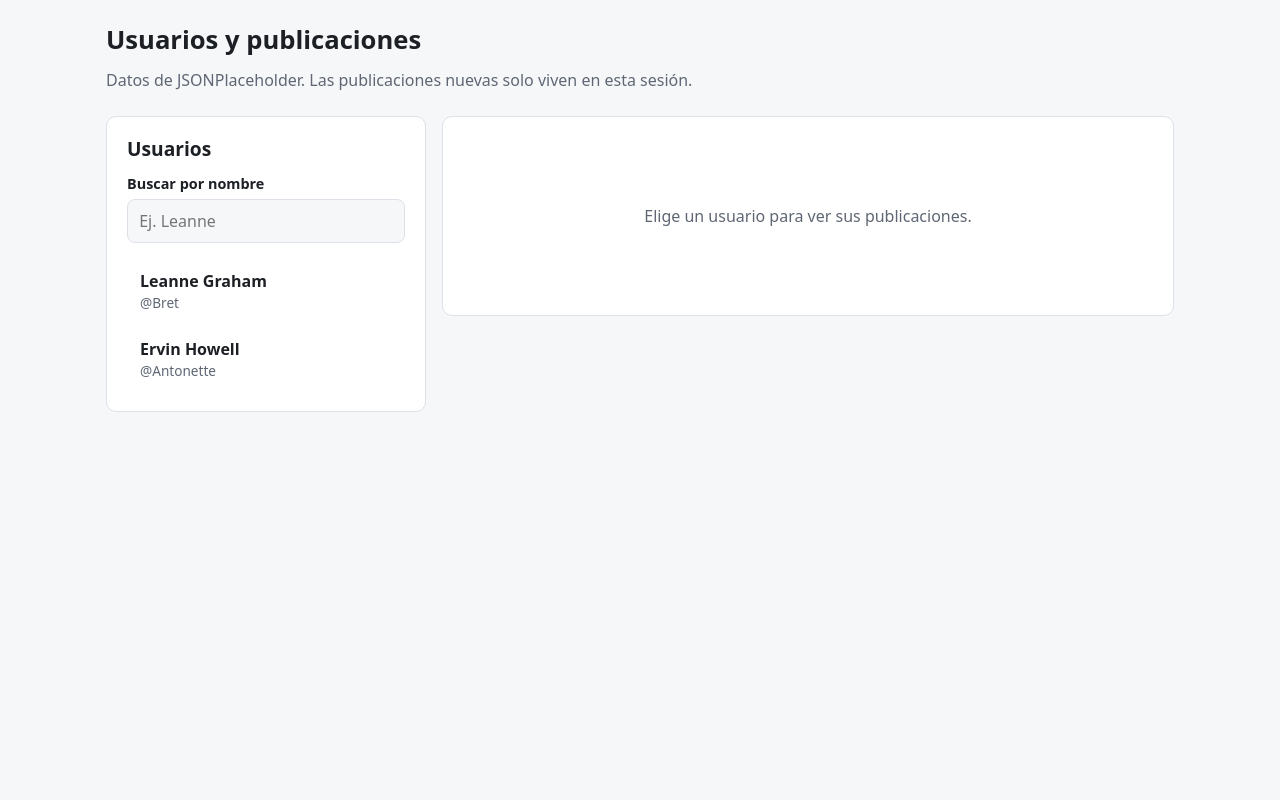
Aplicación de Usuarios y Publicaciones › 4. Permite seleccionar un usuario, ver sus posts y agregar uno nuevo a la lista
Click the text "Leanne Graham".
click(203, 281)  # box [140,269,267,293]
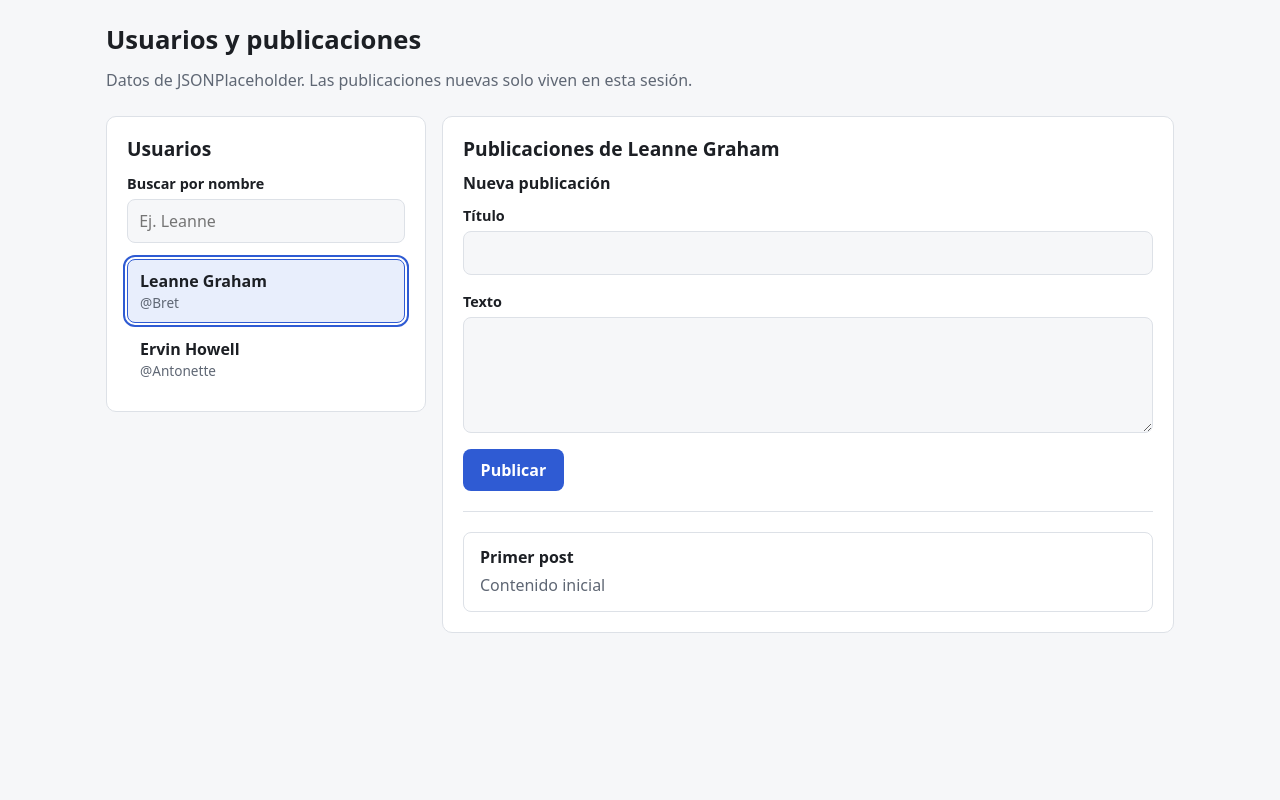
Now the heading "Primer post" is shown, box [480,546,574,568]
Type "Nuevo Título" into the field labelled "Título".
click(808, 253); type("Nuevo Título")  # box [463,231,1153,275]
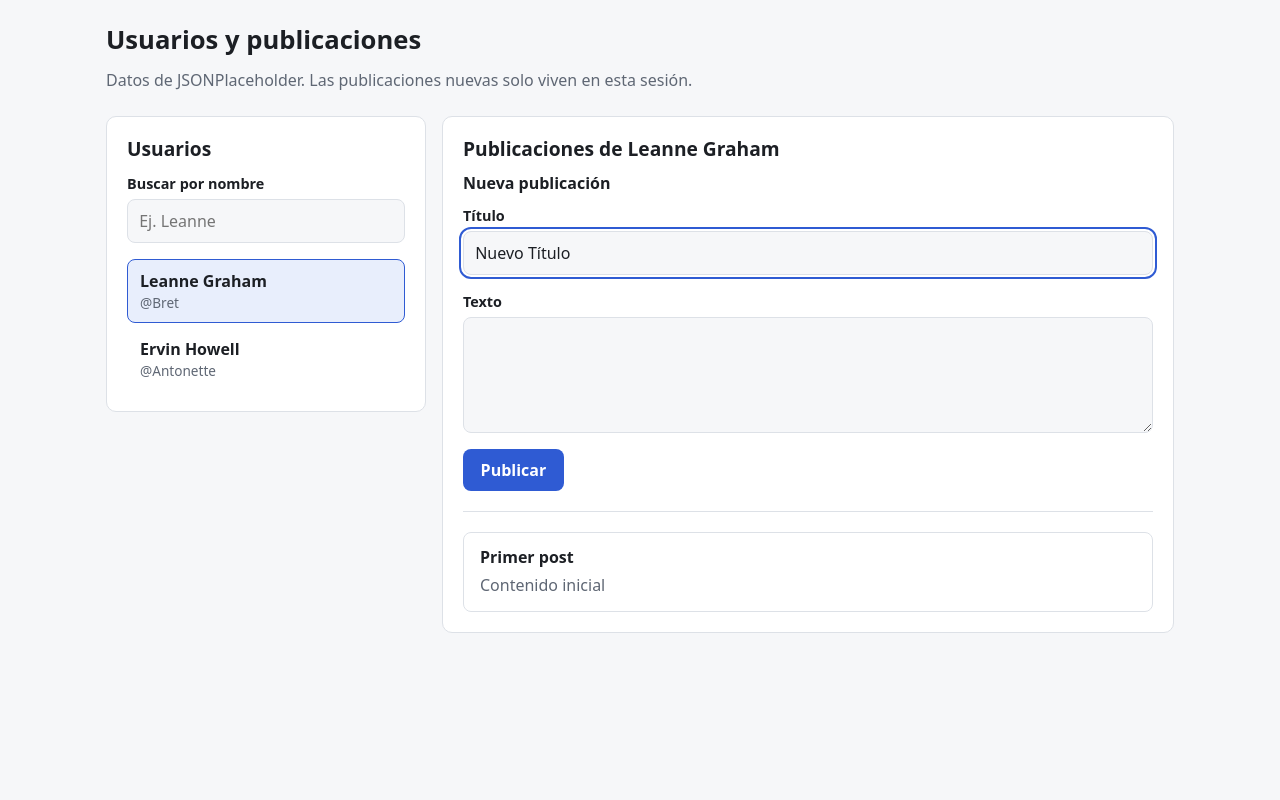
Type "Nuevo Contenido" into the text box labelled "Texto".
click(808, 375); type("Nuevo Contenido")  # box [463,317,1153,433]
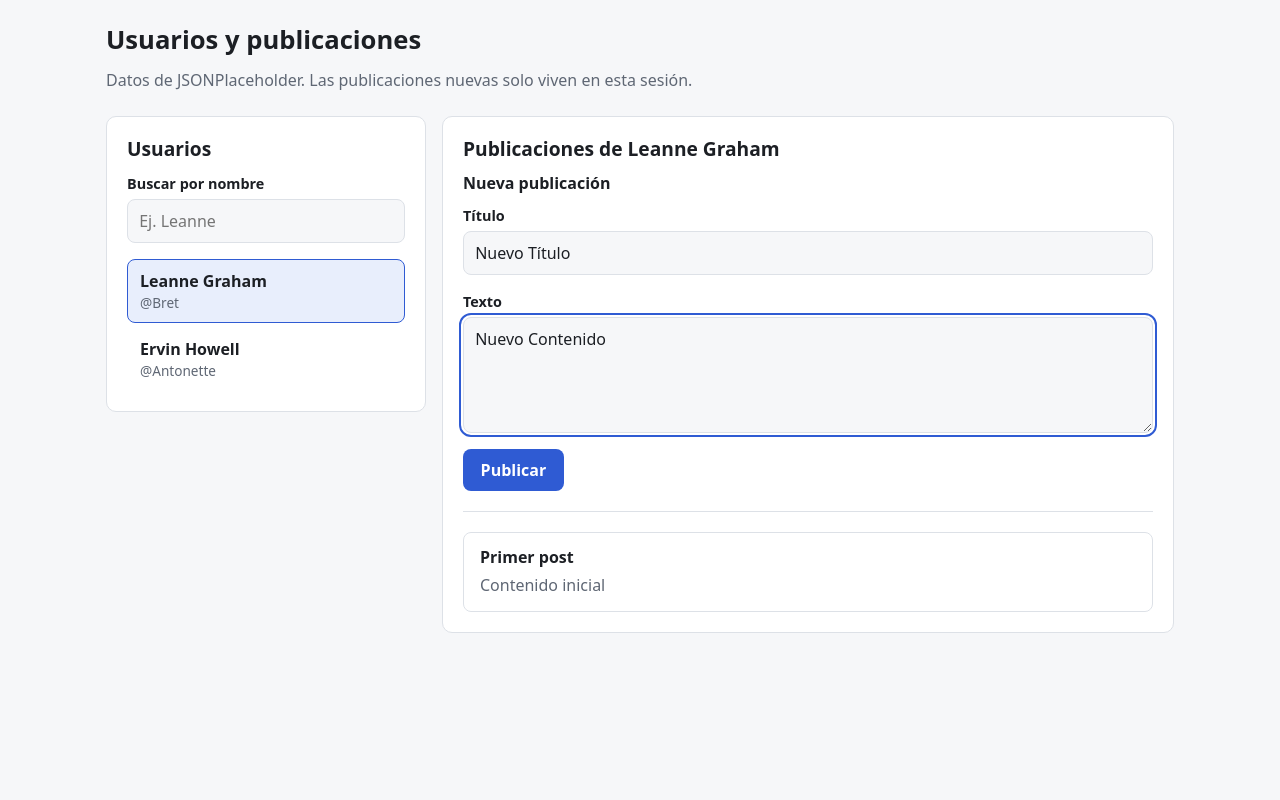
Click the button "Publicar".
click(513, 470)  # box [463,449,564,491]
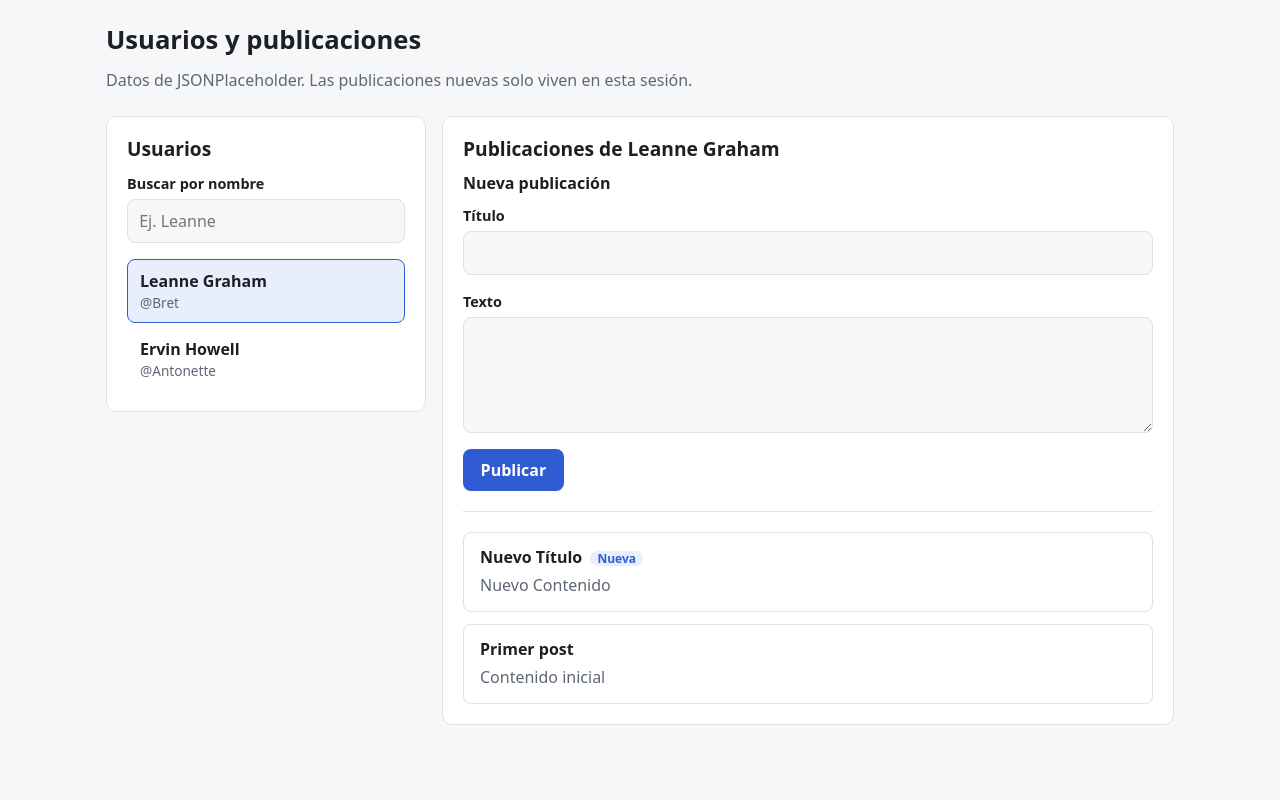
Now the heading "Nuevo Título Nueva" is shown, box [480,546,643,568]
Now the text "Nuevo Contenido" is shown, box [480,574,611,596]
